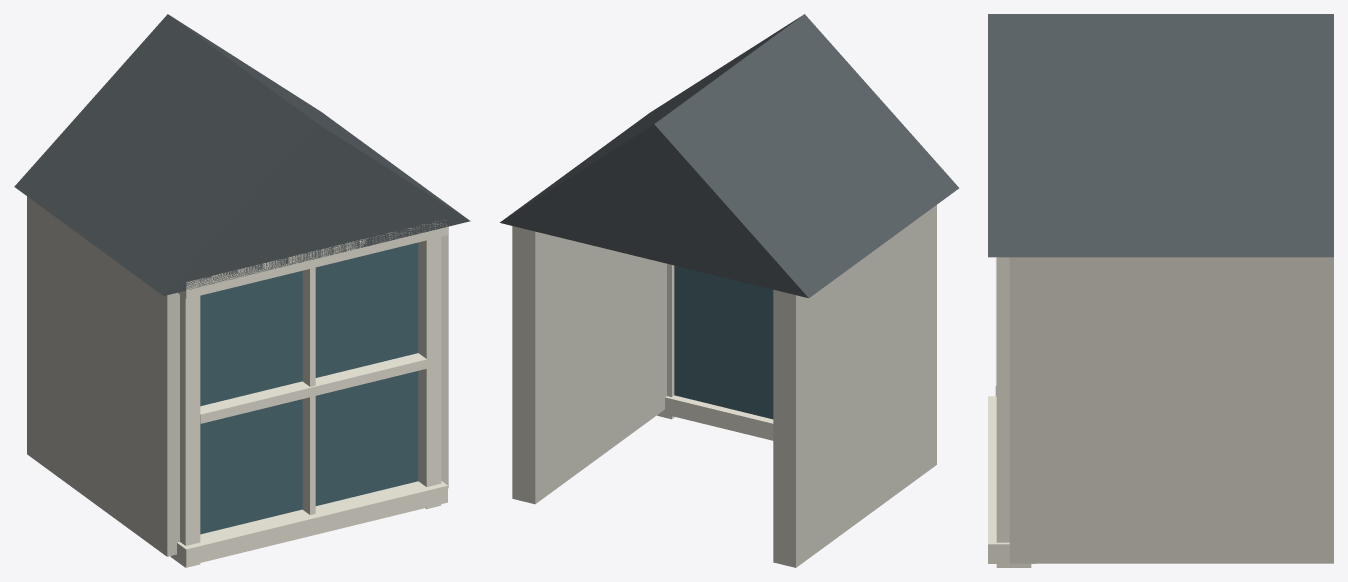
3 renders of one model, left to right at view 1: azimuth 30°, elevation 25°; view 2: azimuth 150°, elevation 25°; view 3: azimuth 270°, elevation 25°, orthographic. The views are drawn at different scales.
Parts seen in each view (by area): view 1: QH-A0115_V01_geometry; view 2: QH-A0115_V01_geometry; view 3: QH-A0115_V01_geometry.
Part boxes in pixels (x1=…): QH-A0115_V01_geometry: x1=14, y1=14, x2=470, y2=567; QH-A0115_V01_geometry: x1=500, y1=14, x2=959, y2=567; QH-A0115_V01_geometry: x1=988, y1=14, x2=1333, y2=567.
Size of the model in its own units: 1.9 by 2.46 by 1.6.
